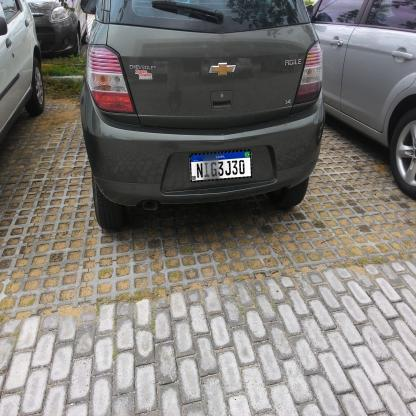PlacaM: (190, 150, 252, 183)
